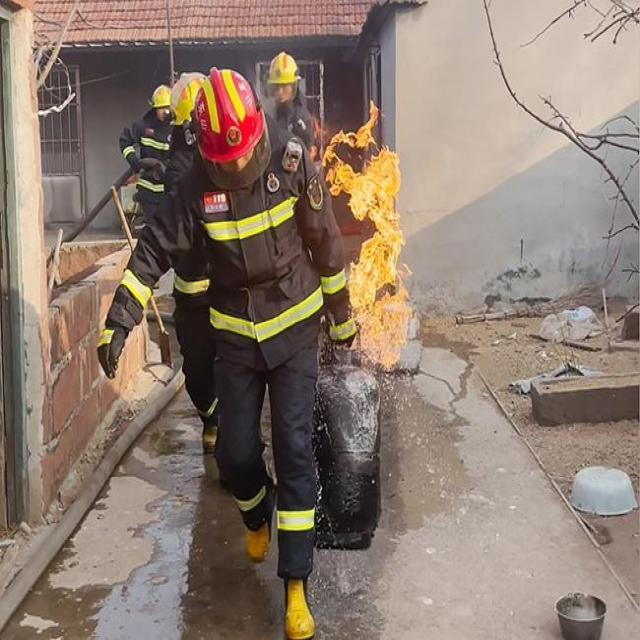Fire: (322, 104, 414, 374)
